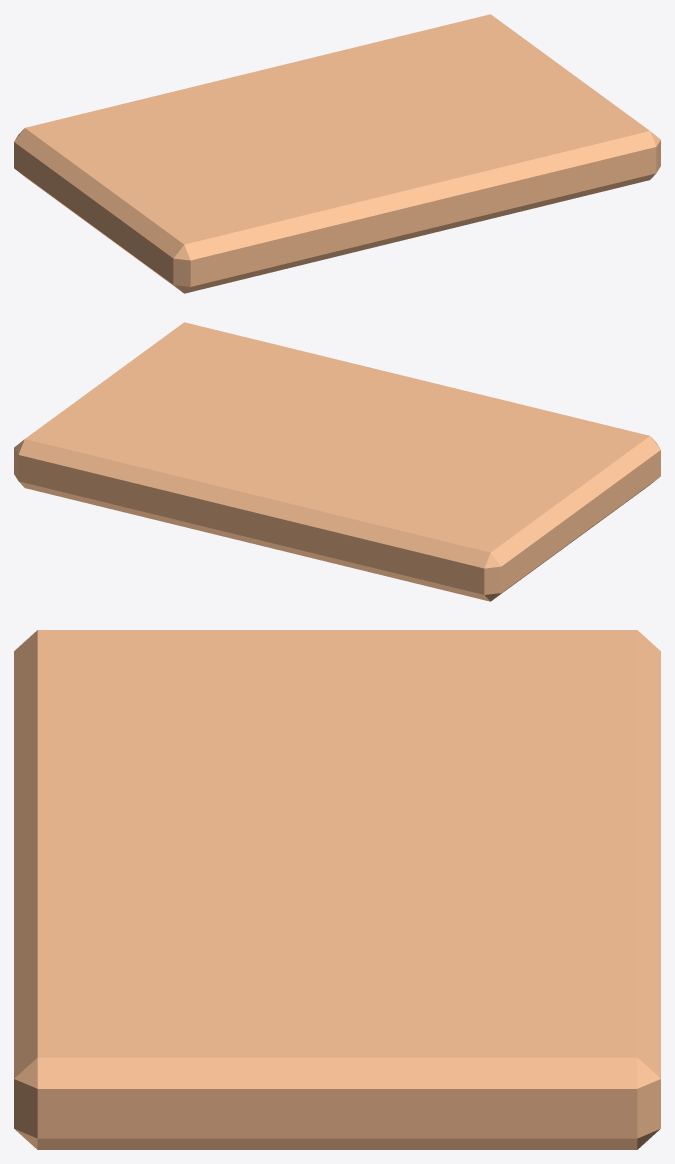
The picture shows the model from 3 angles, top to bottom: view 1: azimuth 30°, elevation 25°; view 2: azimuth 150°, elevation 25°; view 3: azimuth 270°, elevation 25°; orthographic projection. The views are drawn at different scales.
Visible parts, largest first — view 1: Low stage; view 2: Low stage; view 3: Low stage.
Part boxes in pixels (x1,y1,x2,y2): Low stage: (14,14,660,293); Low stage: (14,322,660,601); Low stage: (14,630,660,1149).
Size of the model in its own units: 270 by 26 by 165.
